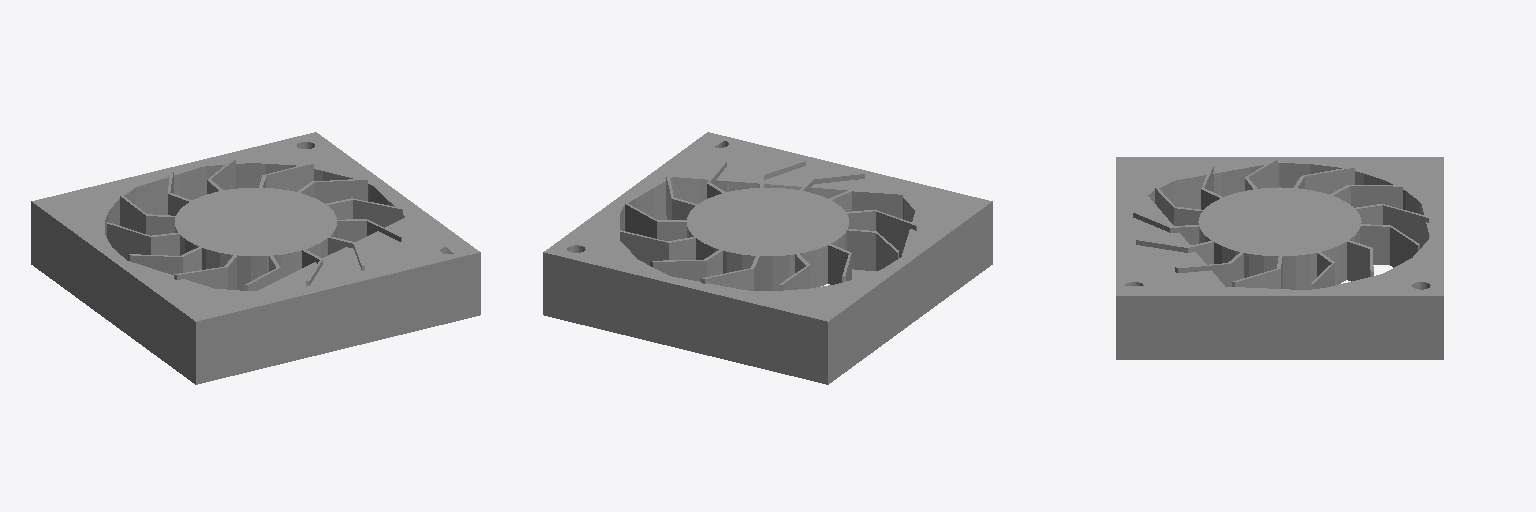
Rendered from CPUFan.obj.
The picture shows the model from 3 angles: view 1: azimuth 30°, elevation 25°; view 2: azimuth 150°, elevation 25°; view 3: azimuth 270°, elevation 25°; orthographic projection.
Parts seen in each view (by area): view 1: Cube; view 2: Cube; view 3: Cube.
Boxes of the visible parts, <box> form: Cube: <box>31,132,480,384</box>; Cube: <box>543,132,992,384</box>; Cube: <box>1116,157,1443,359</box>.
Bounding box in the file's own units: 2 × 0.4568 × 2.